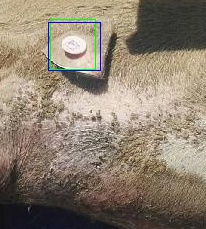text: (50, 19, 95, 69)
